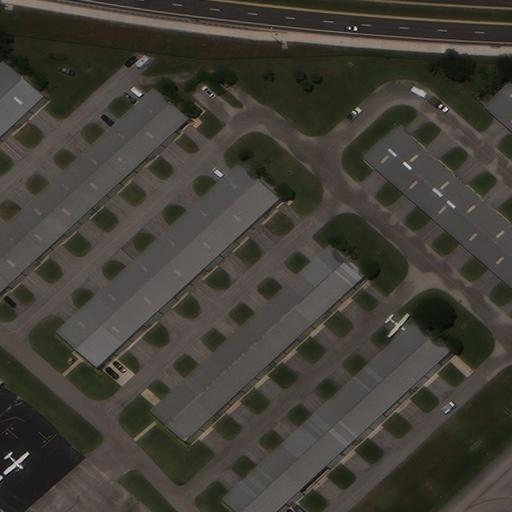Small Civil Transport: (6, 453, 30, 475), (387, 314, 409, 338)
